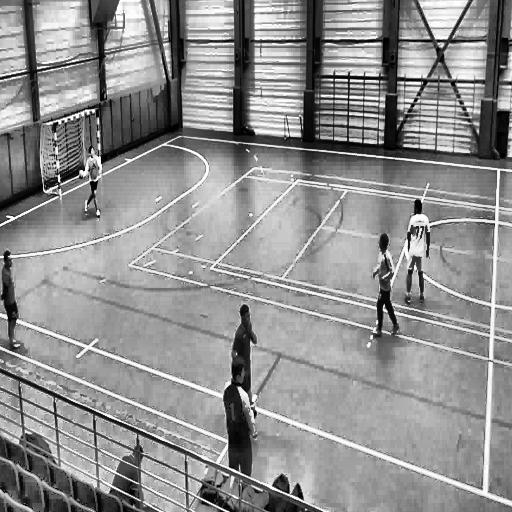ball: (78, 166, 86, 182)
player: (230, 298, 260, 448), (221, 361, 256, 488), (406, 193, 435, 318), (372, 232, 400, 342), (0, 246, 25, 360), (82, 143, 104, 224)
